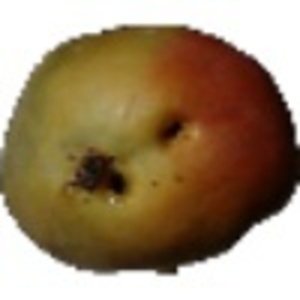mamão: (1, 19, 296, 274)
